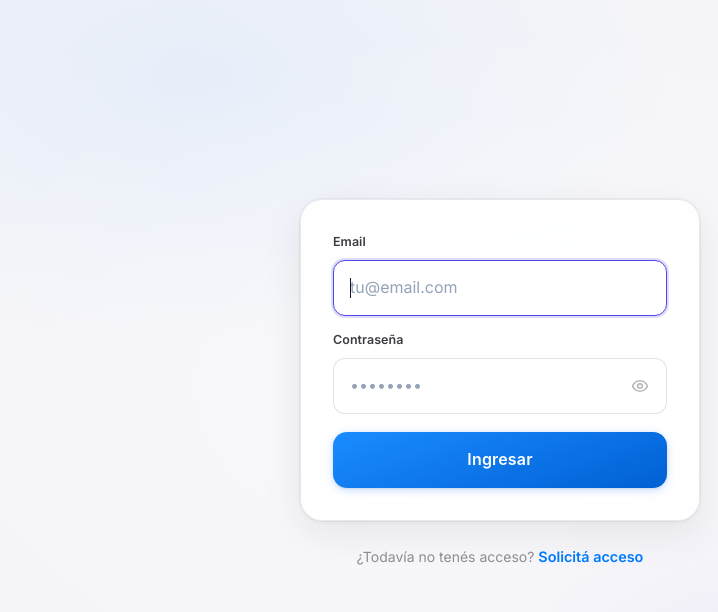
PortalLogin sin cuenta demo › B4. un error del servicio se muestra y no navega
Type "qa@example.test" into the field with placeholder "tu@email.com".
click(500, 288); type("qa@example.test")  # box x1=333 y1=260 x2=667 y2=316
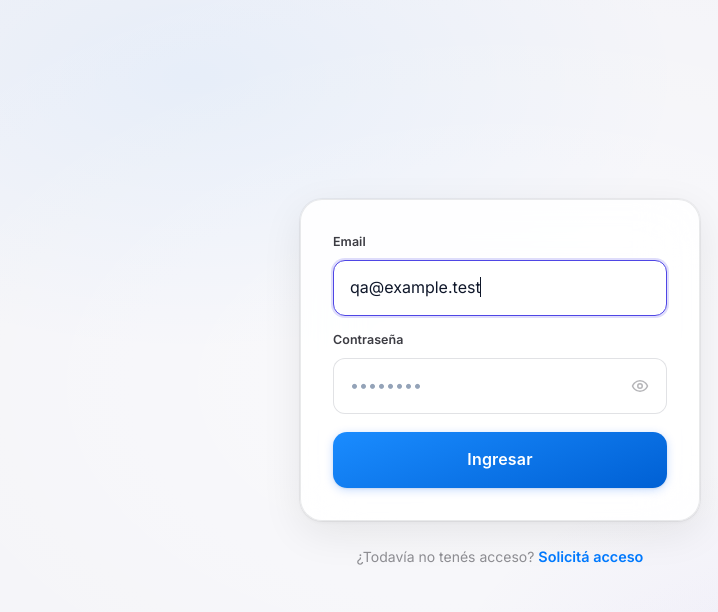
Type "mala" into the password field with placeholder "••••••••".
click(500, 386); type("mala")  # box x1=333 y1=358 x2=667 y2=414
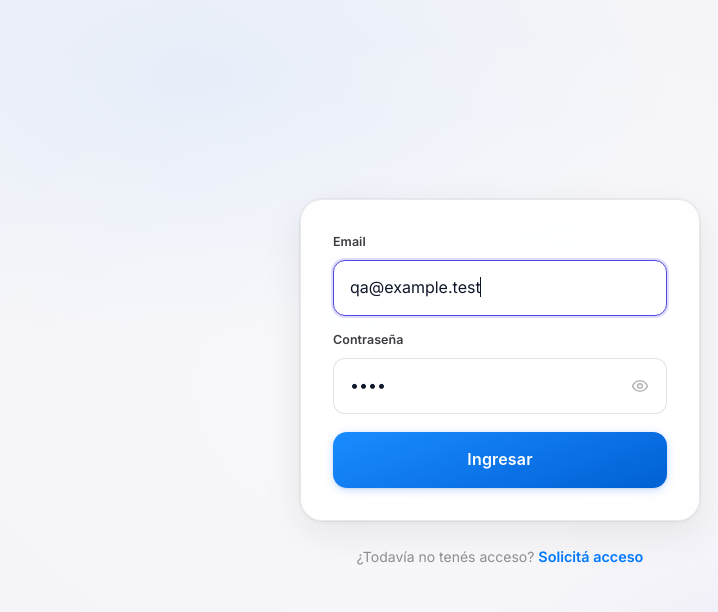
Submit the form, box x1=333 y1=232 x2=667 y2=488
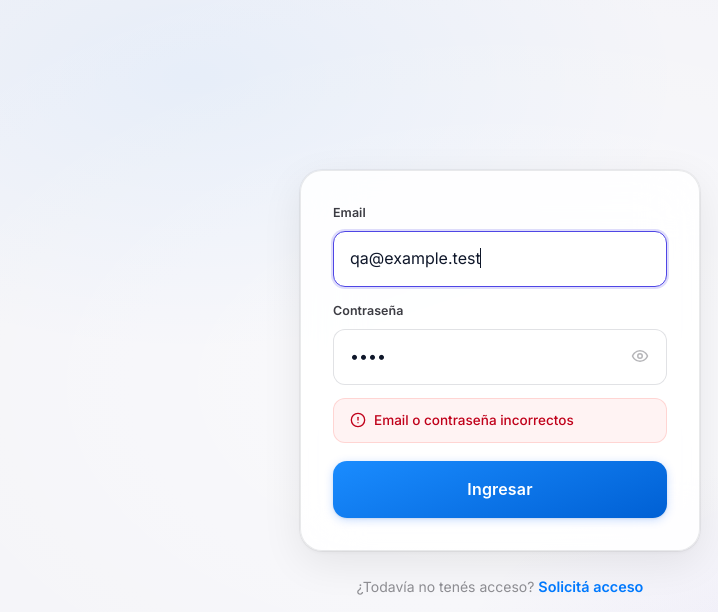
Now the text "Email o contraseña incorrectos" is shown, box x1=374 y1=411 x2=574 y2=430
